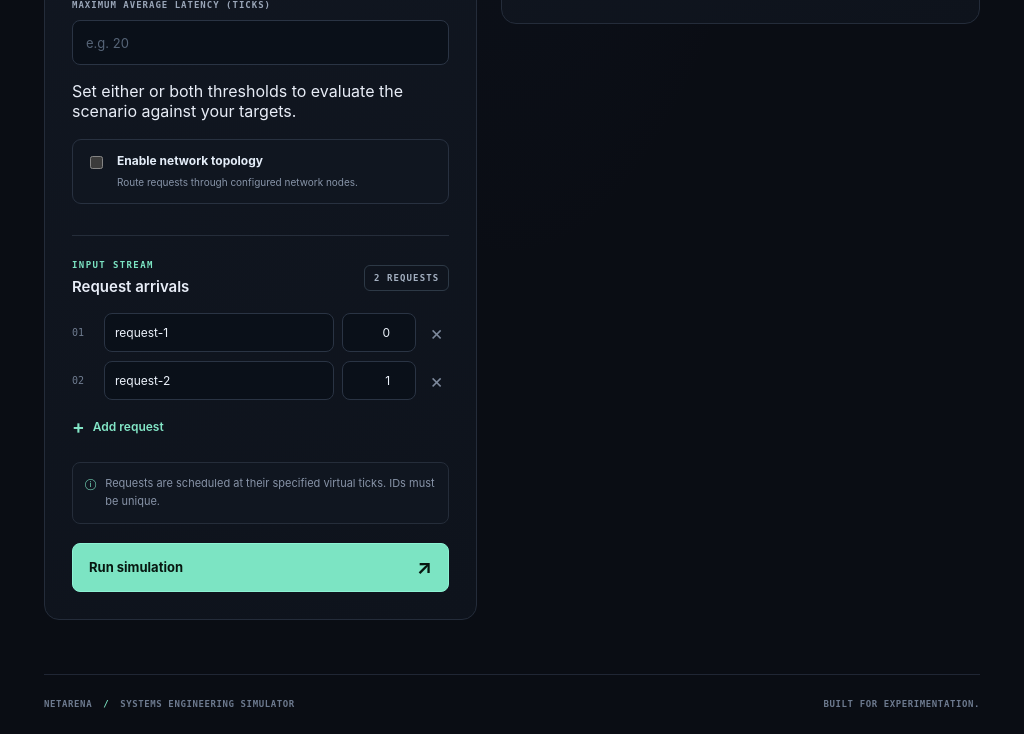
Test case: NetArena dashboard › renders passing objective evaluation
(page scrolled)
Click the button "Run simulation ↗" at (136,567), box [72,543,449,592]
(page scrolled)
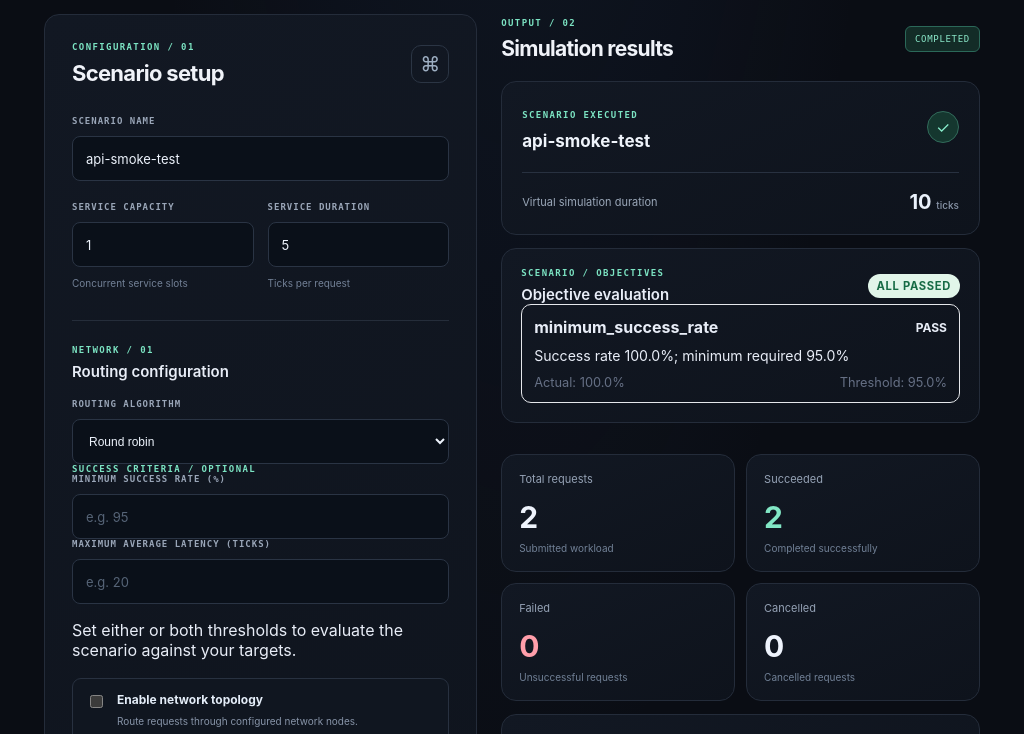
Expected: the text "ALL PASSED" is shown, [868,274,960,298]
Expected: the text "minimum_success_rate" is shown, [534,317,718,337]
Expected: the text "PASS" is shown, [916,320,947,335]
